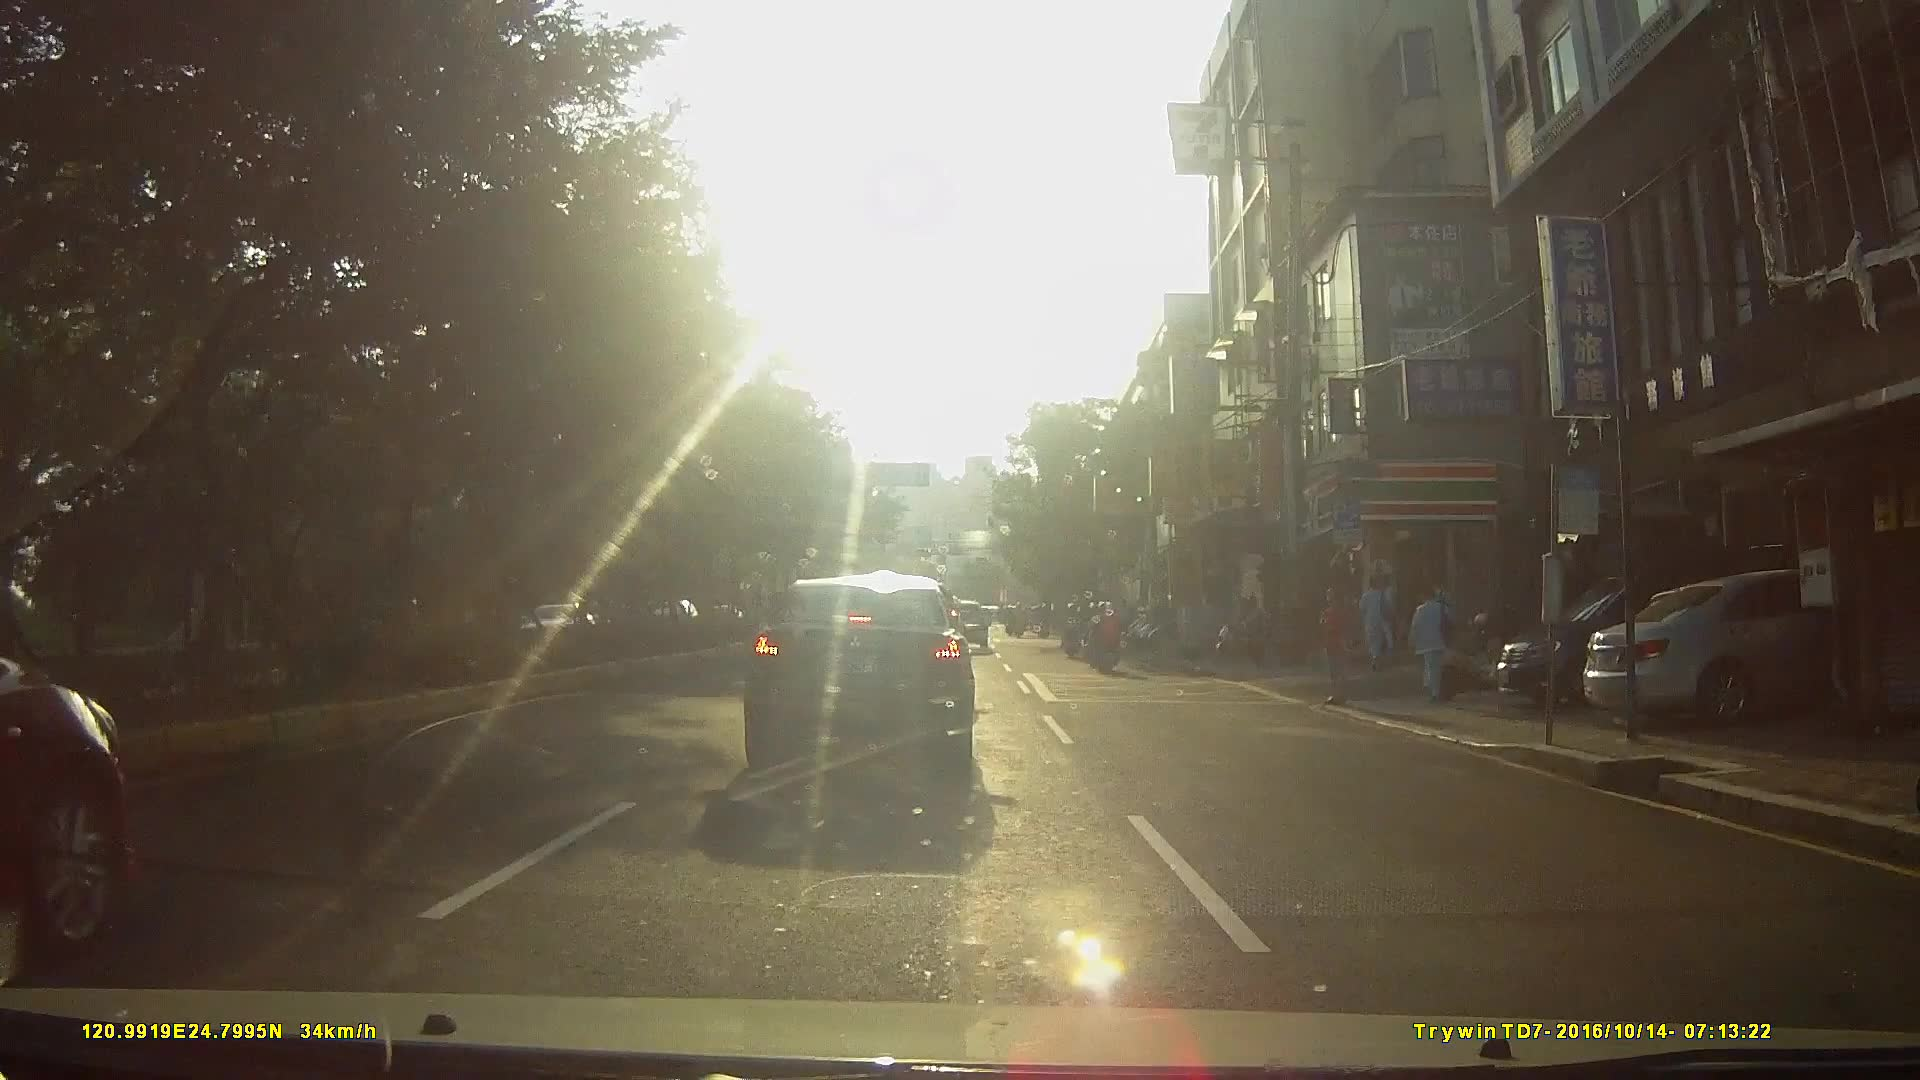pedestrian: (1406, 585, 1458, 708), (1323, 584, 1357, 709)
rider: (1088, 597, 1126, 675), (1061, 599, 1085, 657)
vehicle: (1489, 548, 1884, 714), (1574, 567, 1917, 732), (733, 571, 993, 779)
